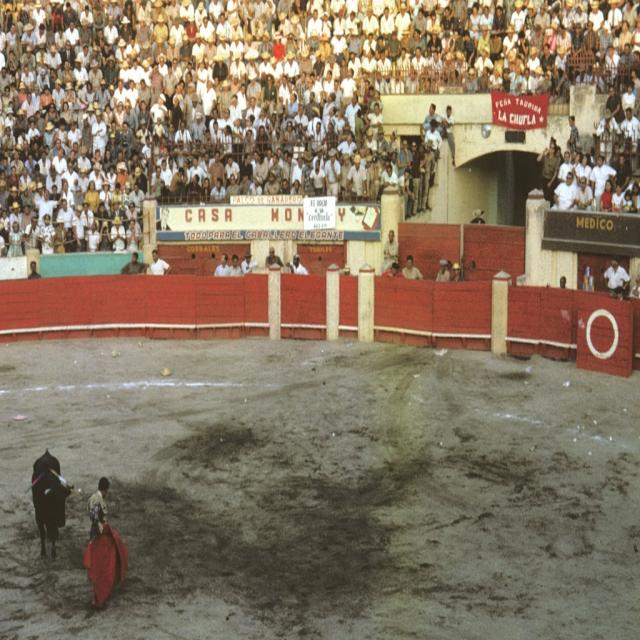Bull: (24, 448, 75, 559)
